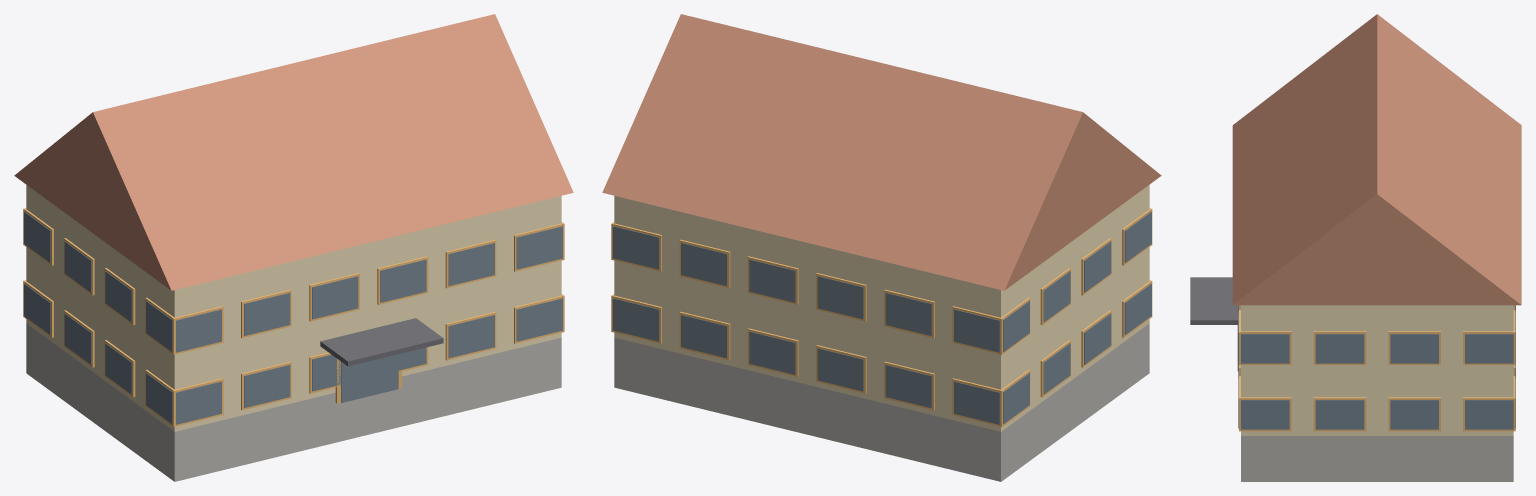
File: kindergarten-431078930.glb
3 renders of one model, left to right at view 1: azimuth 30°, elevation 25°; view 2: azimuth 150°, elevation 25°; view 3: azimuth 270°, elevation 25°, orthographic. The views are drawn at different scales.
Parts seen in each view (by area): view 1: building; view 2: building; view 3: building.
Boxes of the visible parts, x1=… form: building: x1=14, y1=14, x2=573, y2=481; building: x1=602, y1=14, x2=1161, y2=481; building: x1=1190, y1=14, x2=1521, y2=481.
Size of the model in its own units: 21.02 by 15.85 by 16.35.
